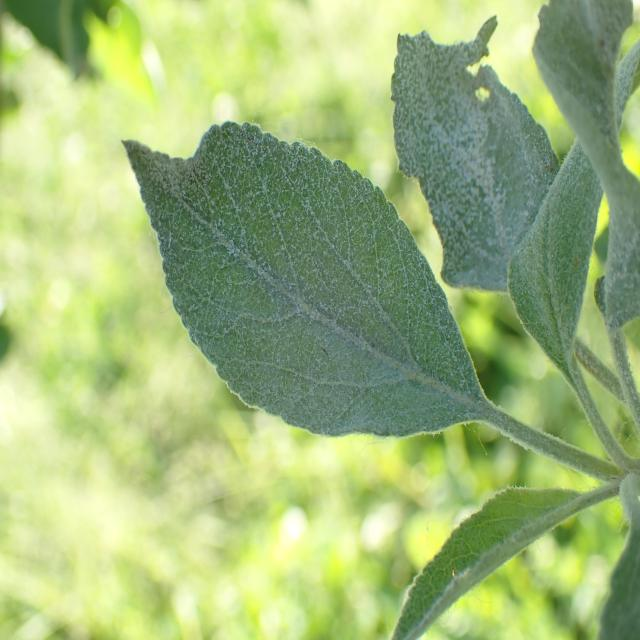Powdery_mildew: (110, 111, 488, 472), (389, 27, 598, 373), (341, 436, 640, 640), (541, 0, 640, 332)
